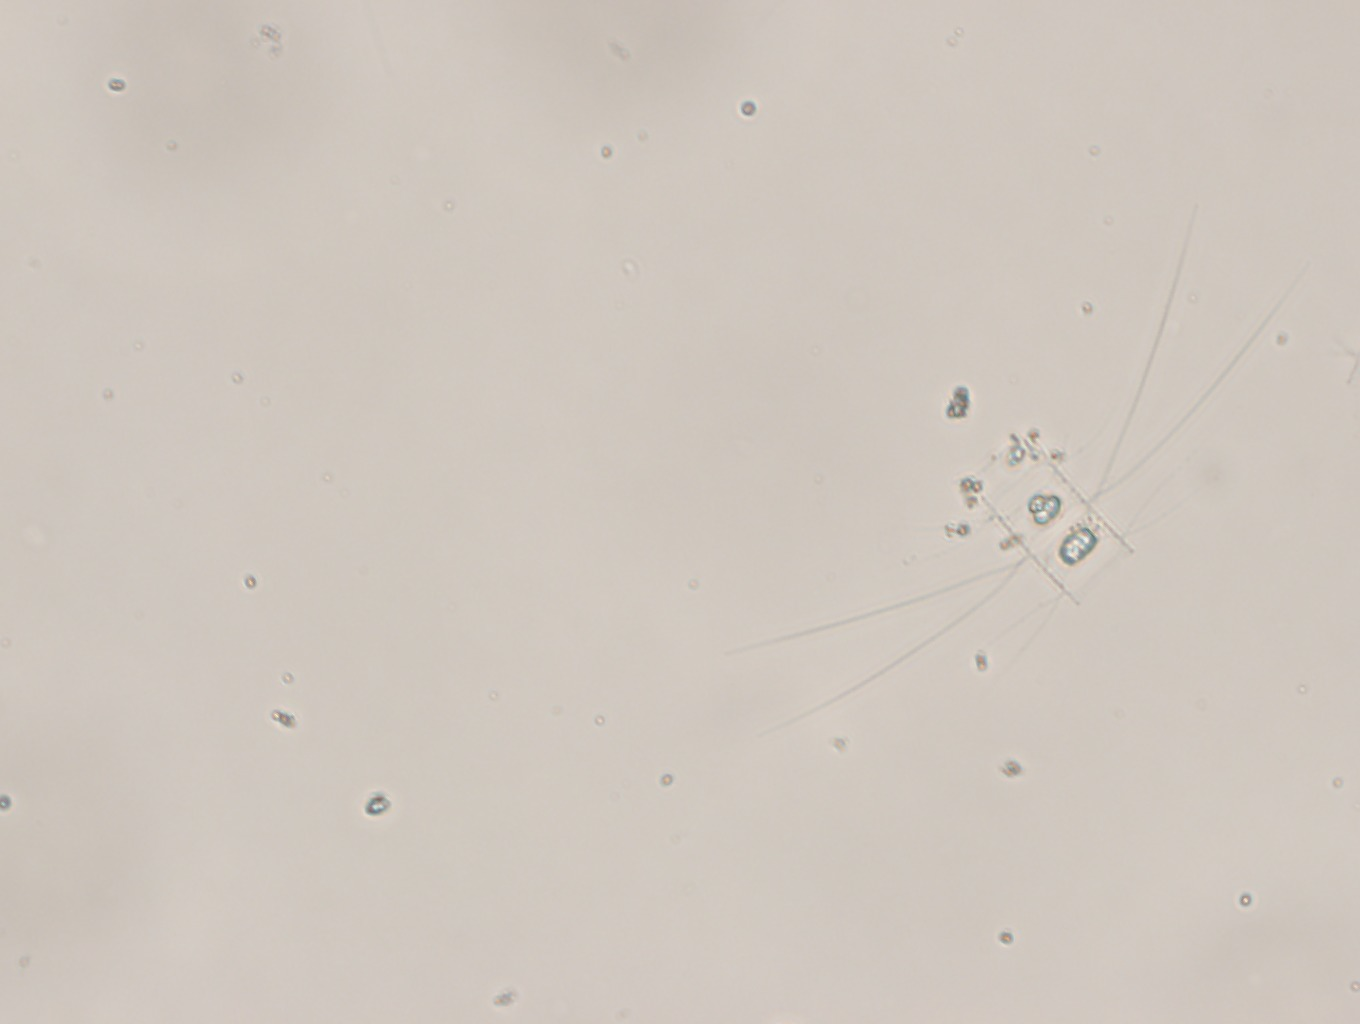chaetoceros: (726, 191, 1322, 742)
